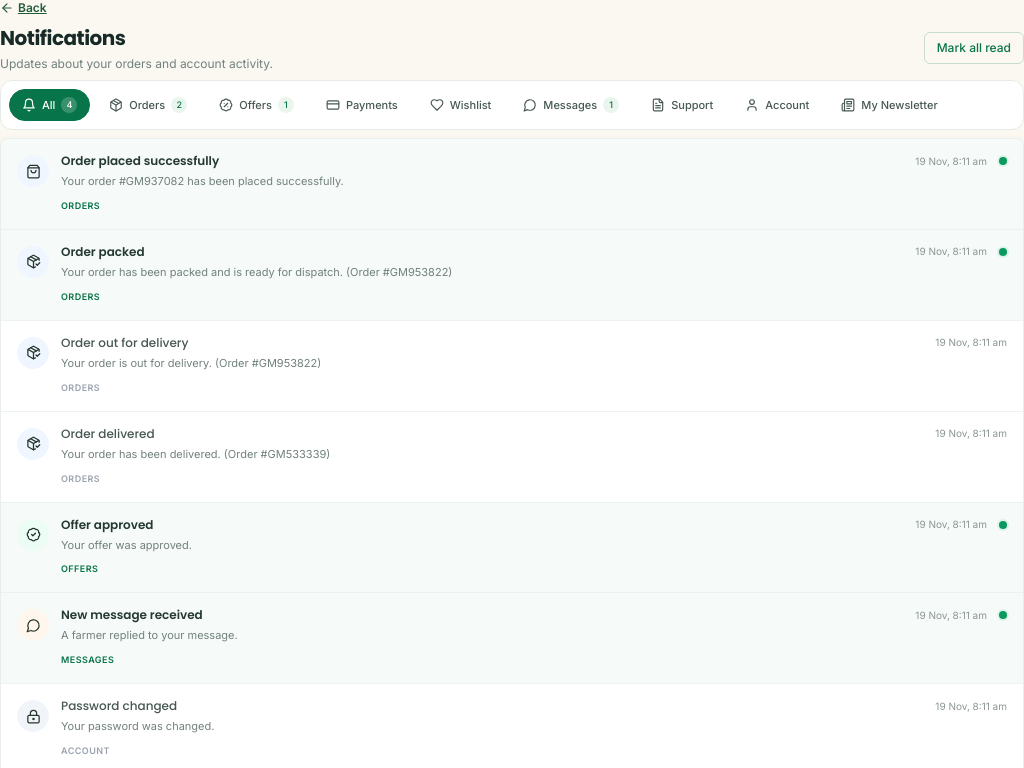
Customer Notification Centre › orders filter displays only order notifications
Expected: the heading "Order placed successfully" is shown, [61,153,219,169]
Click the button "Orders 2" at (148, 105), box [96,89,200,121]
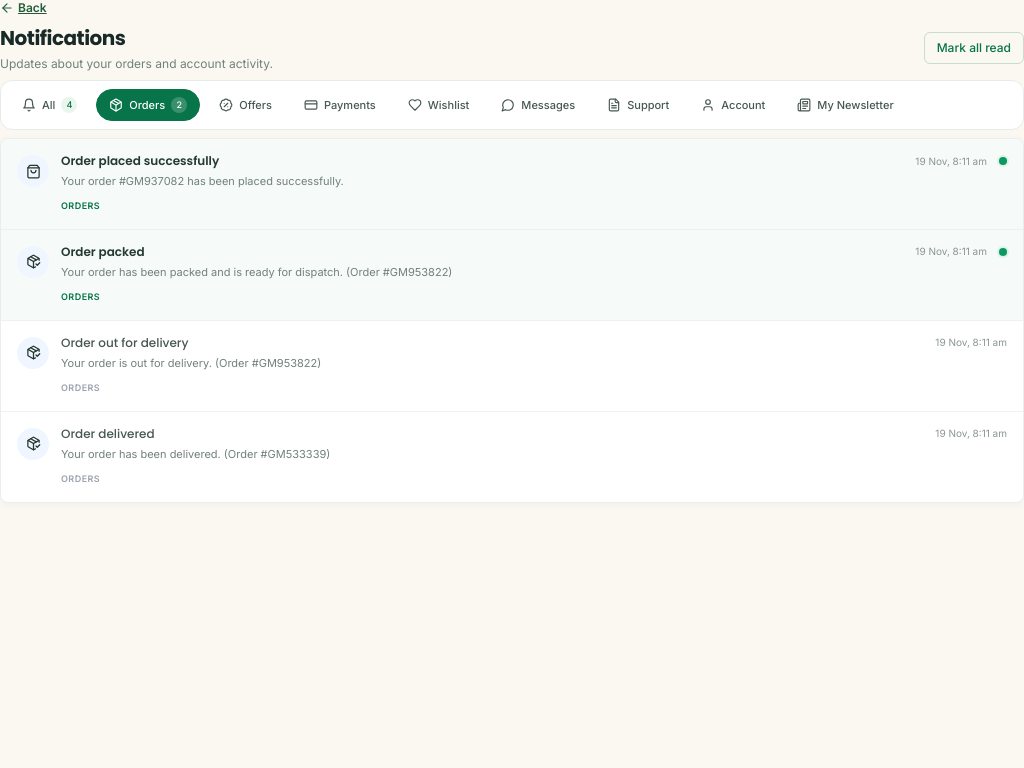
Expected: the heading "Order packed" is shown, [61,244,145,260]
Result: the heading "Offer approved" is gone
